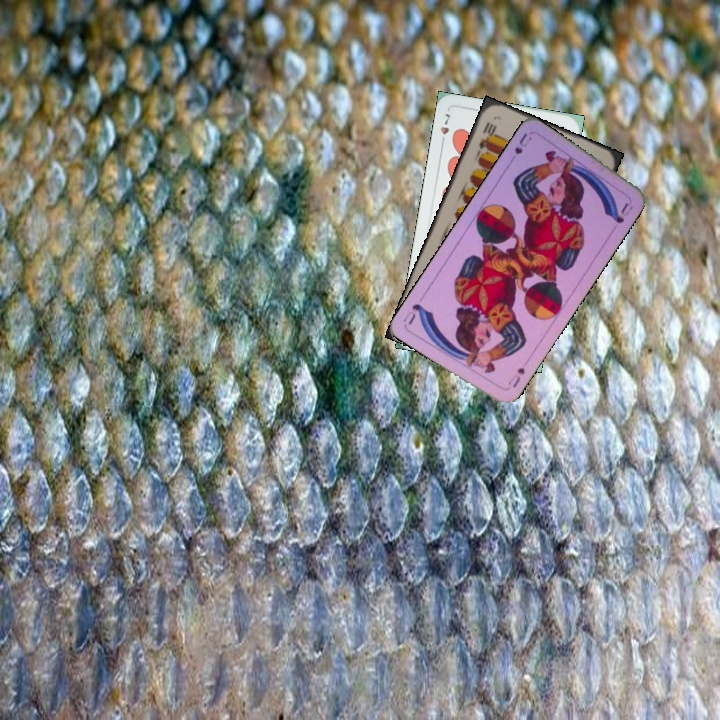E10: (475, 118, 499, 152)
H7: (436, 109, 453, 148)
SU: (505, 129, 534, 167), (502, 363, 527, 392)
